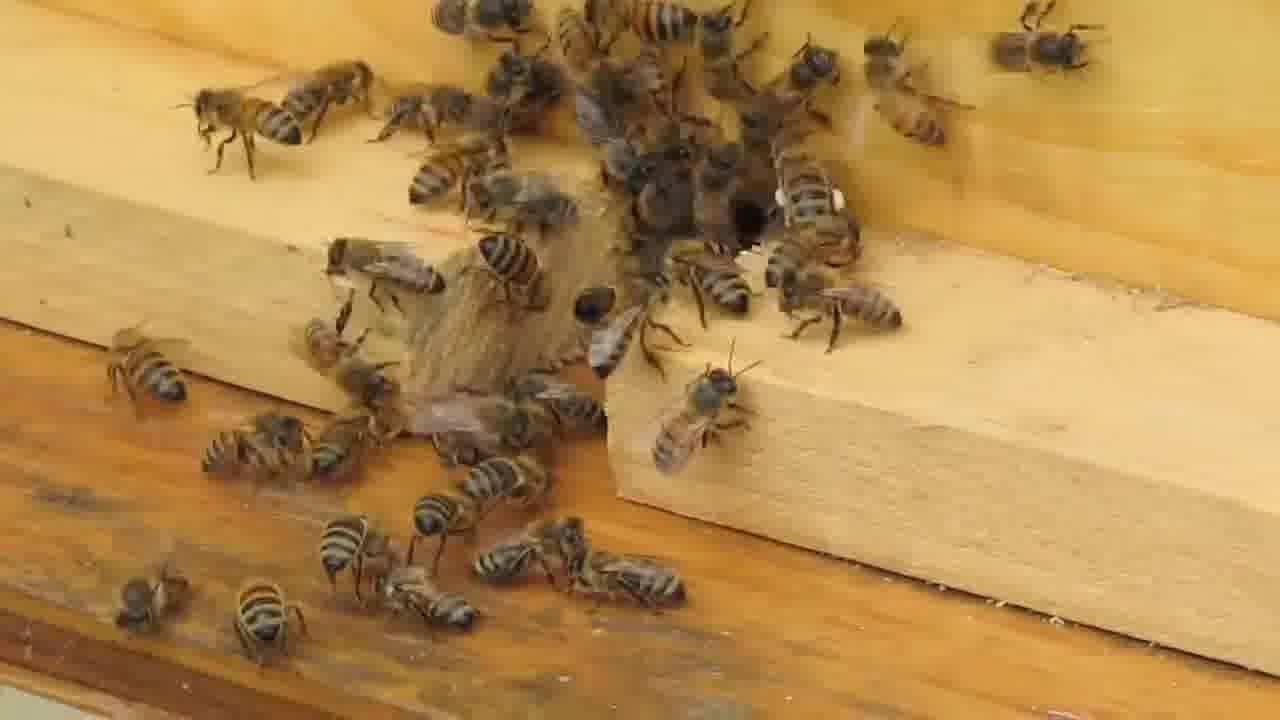pollen: (771, 146, 853, 235)
